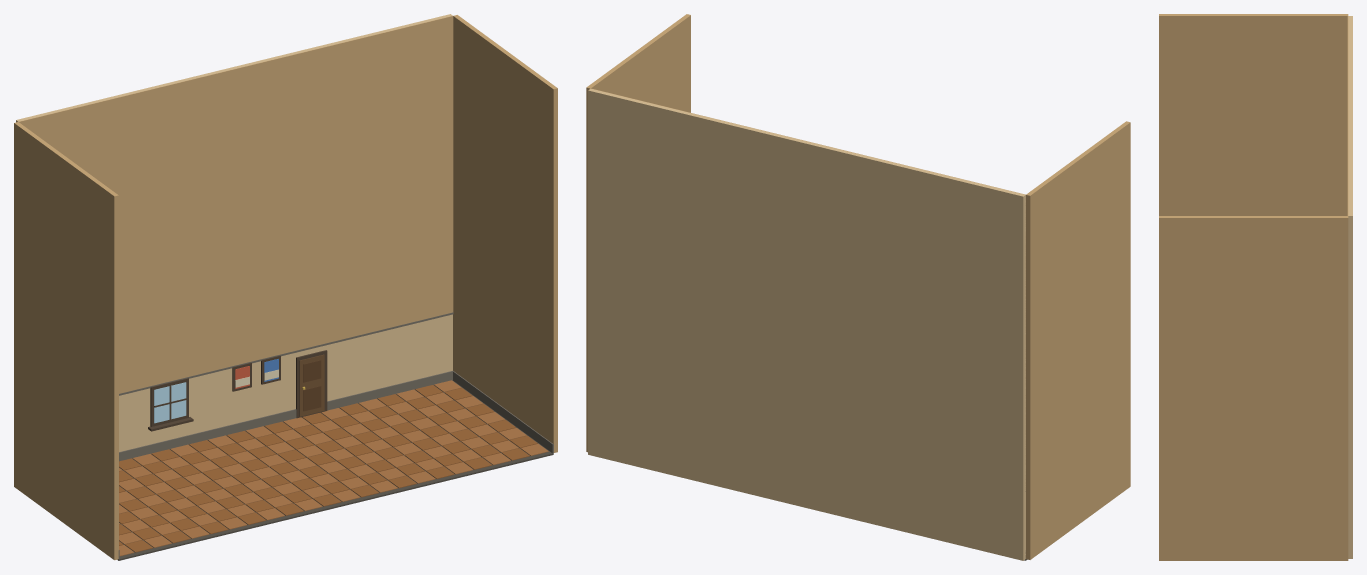
The model's file is room_africa_stone.glb.
3 renders of one model, left to right at view 1: azimuth 30°, elevation 25°; view 2: azimuth 150°, elevation 25°; view 3: azimuth 270°, elevation 25°, orthographic. The views are drawn at different scales.
Parts seen in each view (by area): view 1: room; view 2: room; view 3: room.
Boxes of the visible parts, <box> form: room: <box>14,14,557,560</box>; room: <box>586,14,1130,560</box>; room: <box>1159,14,1352,560</box>.
Size of the model in its own units: 30.6 by 24.11 by 12.3.
